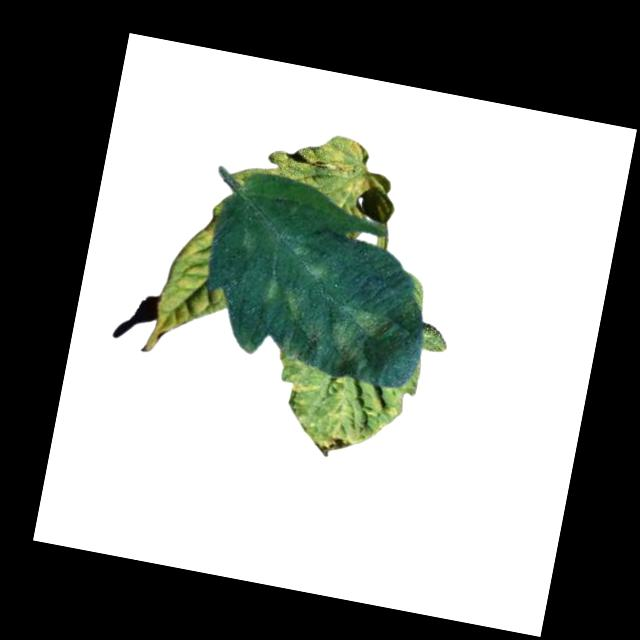Leaf_Mold: (151, 212, 242, 359), (277, 378, 404, 464), (300, 130, 386, 200), (325, 303, 405, 373)
